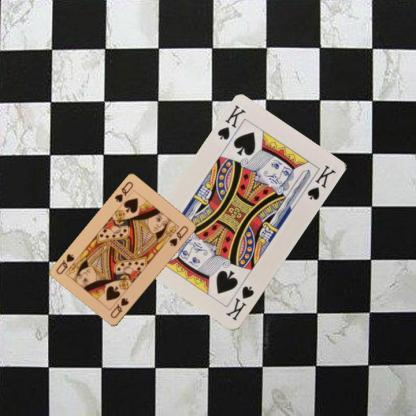Ks: (214, 102, 248, 142), (222, 284, 256, 322)
Qs: (107, 295, 130, 320), (112, 179, 135, 204)
